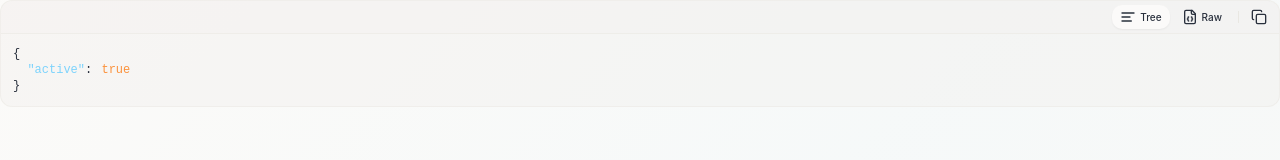
Scenario: JsonResponseExporter › triggers setActiveField when clicking on a boolean value
The width and height of the screenshot is (1280, 160).
Click the text "true" at (116, 70), box [99,63,132,77]
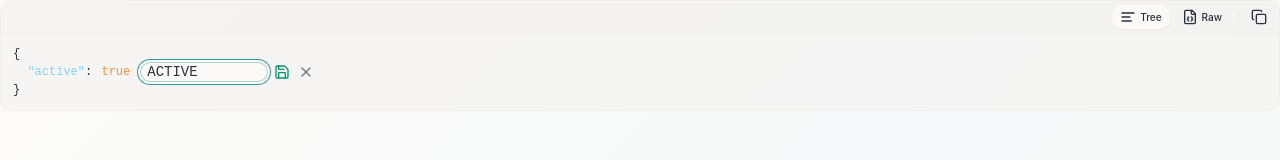
Expected: the field showing "ACTIVE" is shown, [140,62,268,82]
